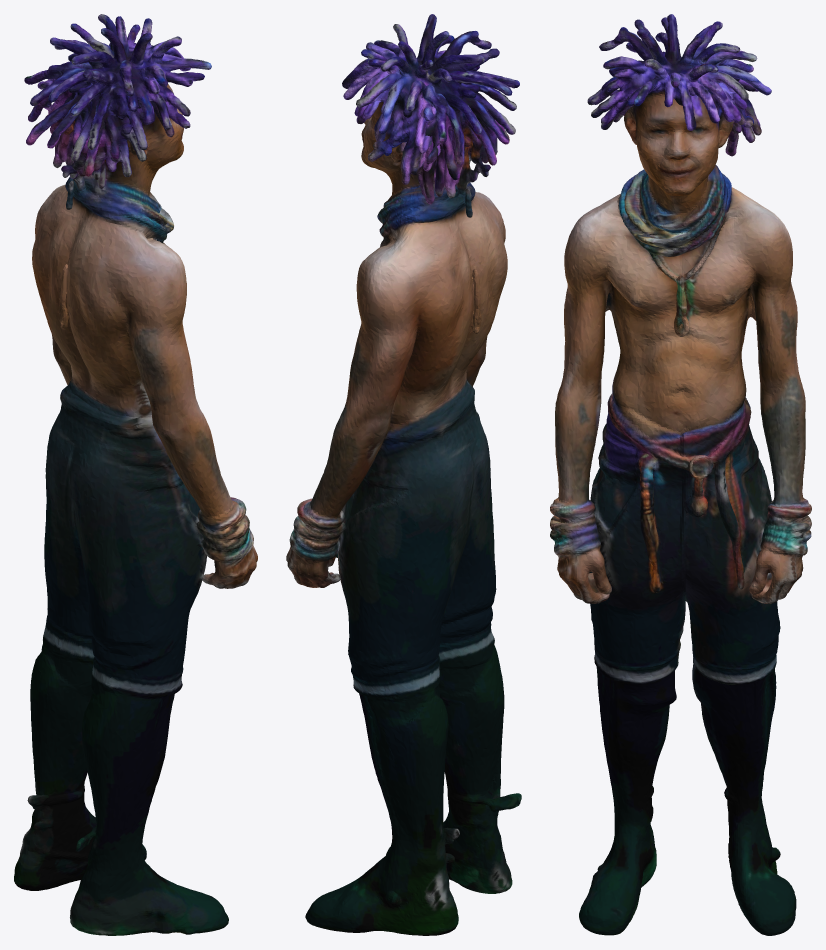
File: modelo23.glb
3 renders of one model, left to right at view 1: azimuth 30°, elevation 25°; view 2: azimuth 150°, elevation 25°; view 3: azimuth 270°, elevation 25°, orthographic.
Visible parts, largest first — view 1: tripo_node_6c6ff28c-9dcd-4bd5-b80c-ca7752ad89df; view 2: tripo_node_6c6ff28c-9dcd-4bd5-b80c-ca7752ad89df; view 3: tripo_node_6c6ff28c-9dcd-4bd5-b80c-ca7752ad89df.
Part boxes in pixels (x1=…): tripo_node_6c6ff28c-9dcd-4bd5-b80c-ca7752ad89df: x1=14, y1=14, x2=257, y2=935; tripo_node_6c6ff28c-9dcd-4bd5-b80c-ca7752ad89df: x1=286, y1=14, x2=521, y2=935; tripo_node_6c6ff28c-9dcd-4bd5-b80c-ca7752ad89df: x1=550, y1=14, x2=811, y2=935.
Size of the model in its own units: 0.2018 by 1 by 0.2697.
1 material, 1 textured.
